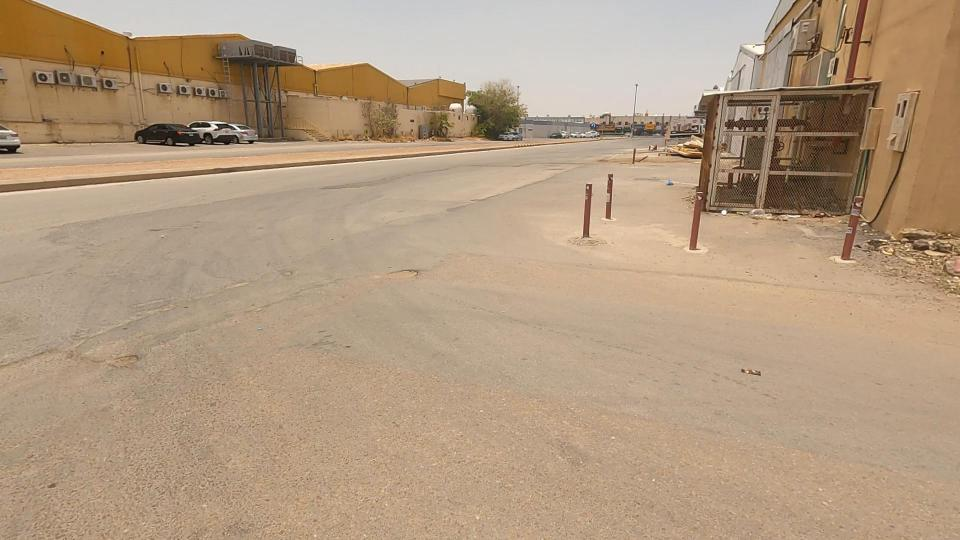POTHOLES: (33, 287, 228, 415), (295, 227, 494, 314)
